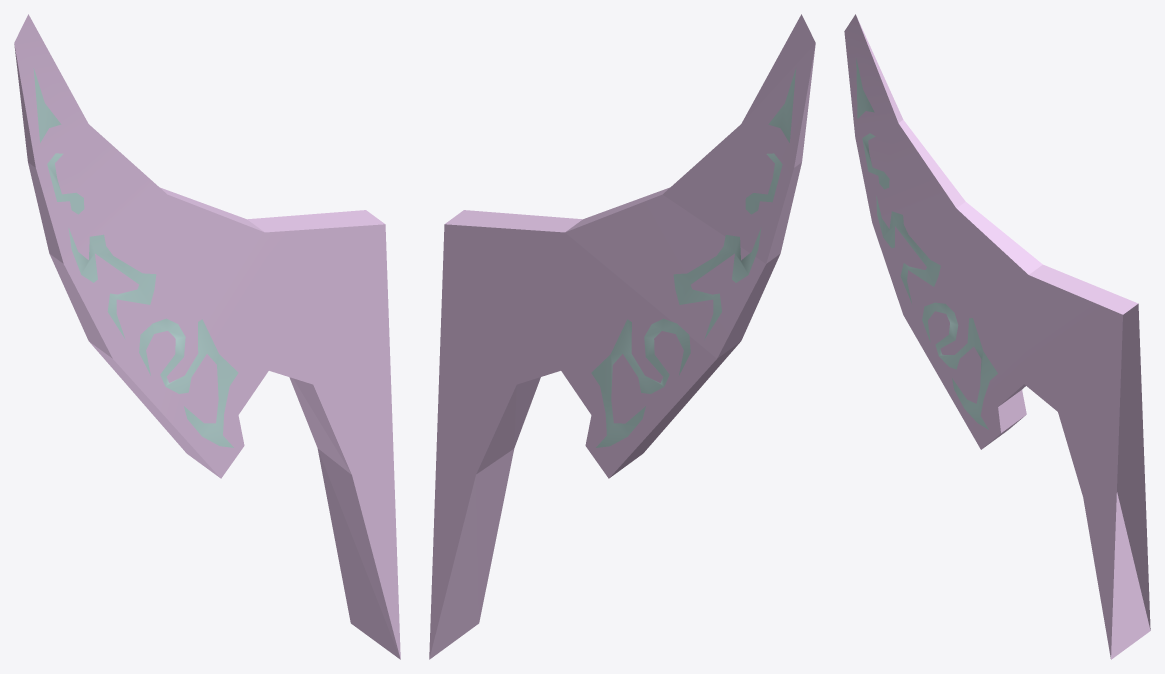
3 views of the same model, side by side, from view 1: azimuth 30°, elevation 25°; view 2: azimuth 150°, elevation 25°; view 3: azimuth 330°, elevation 25° (orthographic). The views are drawn at different scales.
Parts seen in each view (by area): view 1: Object14; view 2: Object14; view 3: Object14.
Boxes of the visible parts, left/top/right/bottom form: Object14: left=14, top=14, right=400, bottom=659; Object14: left=429, top=14, right=815, bottom=659; Object14: left=844, top=14, right=1150, bottom=659.
Size of the model in its own units: 349 by 657 by 83.55.
